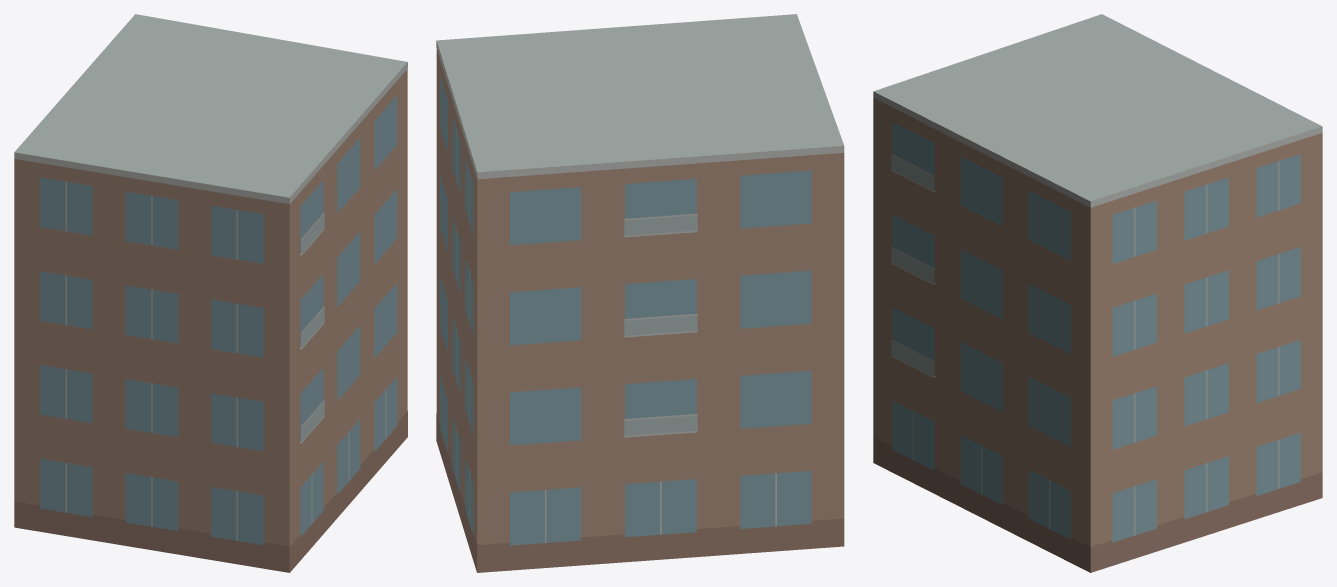
File: survey-upis-32918805.glb
The picture shows the model from 3 angles, left to right: view 1: azimuth 30°, elevation 25°; view 2: azimuth 150°, elevation 25°; view 3: azimuth 270°, elevation 25°; orthographic projection. The views are drawn at different scales.
Parts seen in each view (by area): view 1: survey-upis-32918805.tmp; view 2: survey-upis-32918805.tmp; view 3: survey-upis-32918805.tmp.
Boxes of the visible parts, x1,y1,x2,y2 form: survey-upis-32918805.tmp: (14,14,407,572); survey-upis-32918805.tmp: (436,14,844,572); survey-upis-32918805.tmp: (873,14,1322,572).
Bounding box in the file's own units: 15.37 × 14.2 × 15.58.
